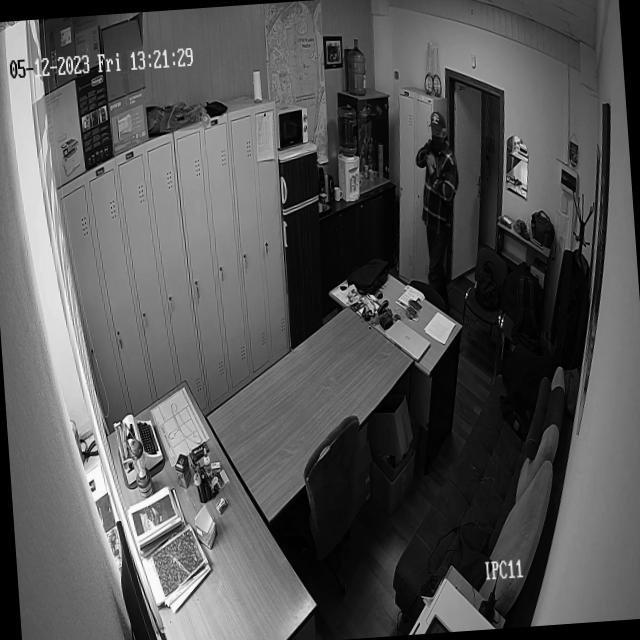gun: (432, 156, 442, 180)
person with a gun: (412, 107, 467, 282)
